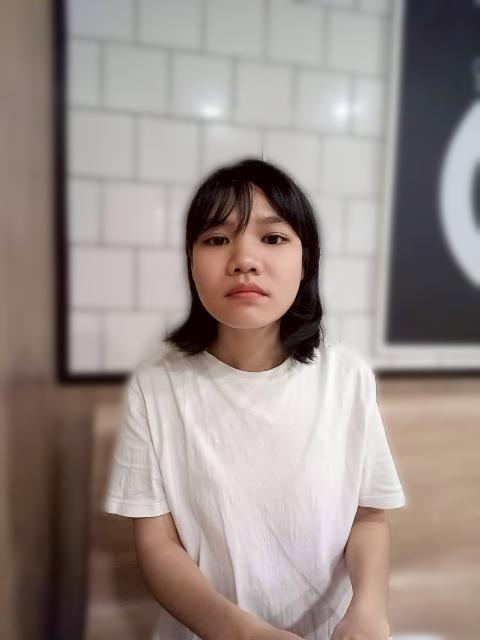fokus: (192, 185, 305, 333)
